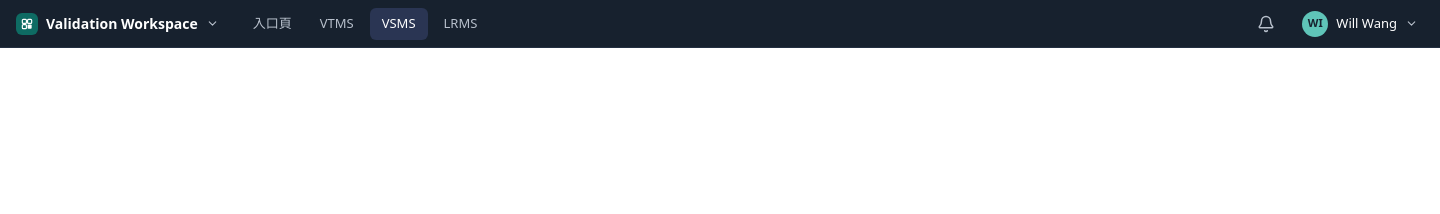
Test: Topbar：使用者選單 › super_admin：標頭顯示名稱與「系統管理員」
The width and height of the screenshot is (1440, 214).
Click the button with aria-label "使用者選單" at point(1361, 24), box [1298, 8, 1424, 40]
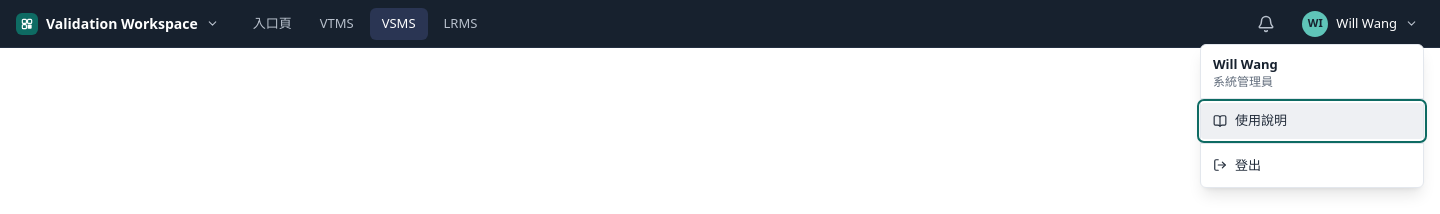
Now the 2nd text "Will Wang" is shown, box [1213, 54, 1278, 72]
Now the text "系統管理員" is shown, box [1213, 73, 1273, 90]
